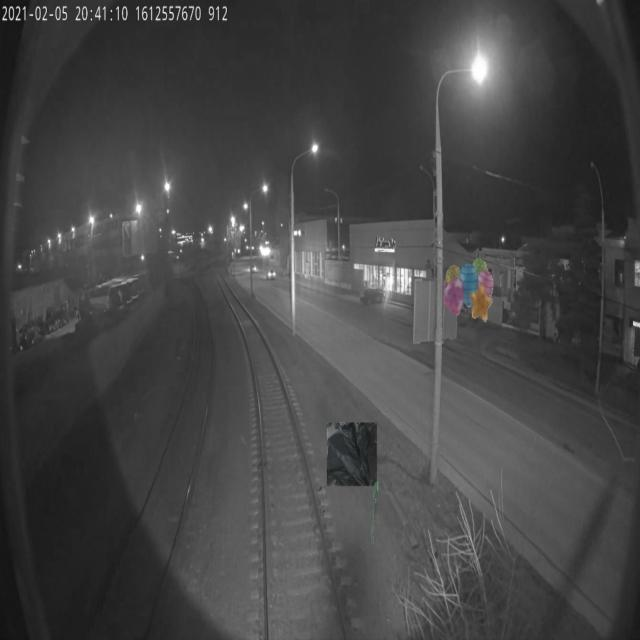balloon: (443, 258, 494, 322)
floating object: (371, 480, 378, 544)
plastic bag: (327, 422, 377, 486)
